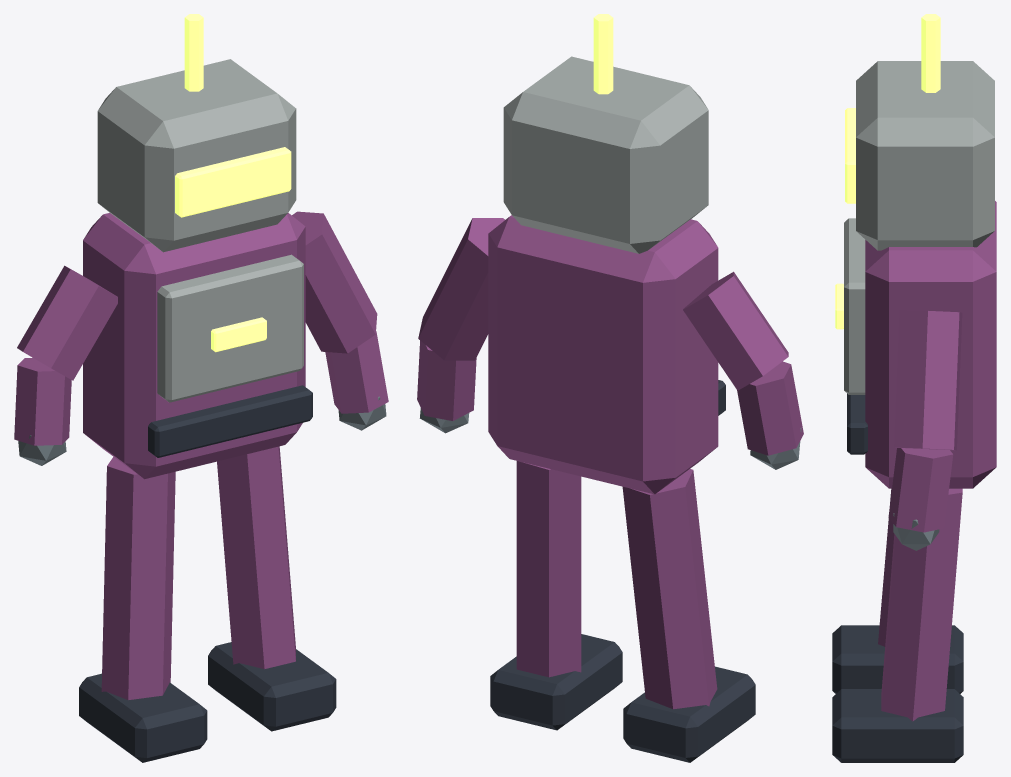
The model's file is npcs_008_seed11.glb.
The picture shows the model from 3 angles, left to right: view 1: azimuth 30°, elevation 25°; view 2: azimuth 150°, elevation 25°; view 3: azimuth 270°, elevation 25°; orthographic projection. The views are drawn at different scales.
Visible parts, largest first — view 1: npcs_008_seed11; view 2: npcs_008_seed11; view 3: npcs_008_seed11.
Part boxes in pixels (x1=…): npcs_008_seed11: x1=14, y1=14, x2=388, y2=762; npcs_008_seed11: x1=417, y1=14, x2=803, y2=762; npcs_008_seed11: x1=832, y1=14, x2=996, y2=762.
Bounding box in the file's own units: 1.18 × 2.12 × 0.4496.
